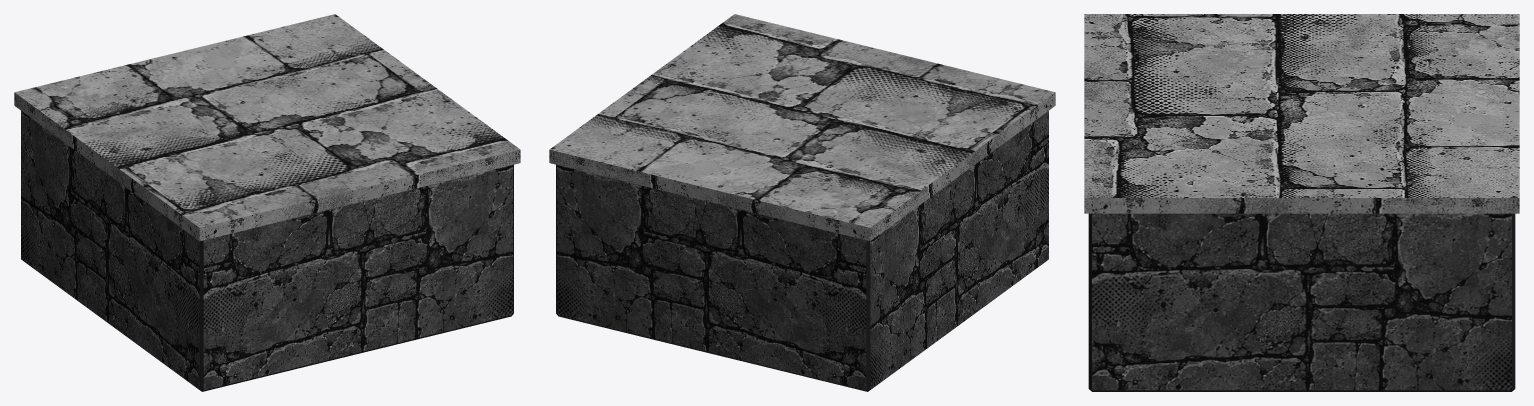
The model's file is elevated.glb.
3 renders of one model, left to right at view 1: azimuth 30°, elevation 25°; view 2: azimuth 150°, elevation 25°; view 3: azimuth 270°, elevation 25°, orthographic. The views are drawn at different scales.
Visible parts, largest first — view 1: Raised masonry, Pale coping; view 2: Raised masonry, Pale coping; view 3: Pale coping, Raised masonry.
Boxes of the visible parts, <box> form: Raised masonry: <box>21,111,513,391</box>; Pale coping: <box>14,14,520,241</box>; Raised masonry: <box>556,111,1048,391</box>; Pale coping: <box>549,14,1055,241</box>; Pale coping: <box>1084,14,1519,213</box>; Raised masonry: <box>1088,213,1515,391</box>.
Size of the model in its own units: 1 by 0.5 by 1.
2 materials, 1 textured.
